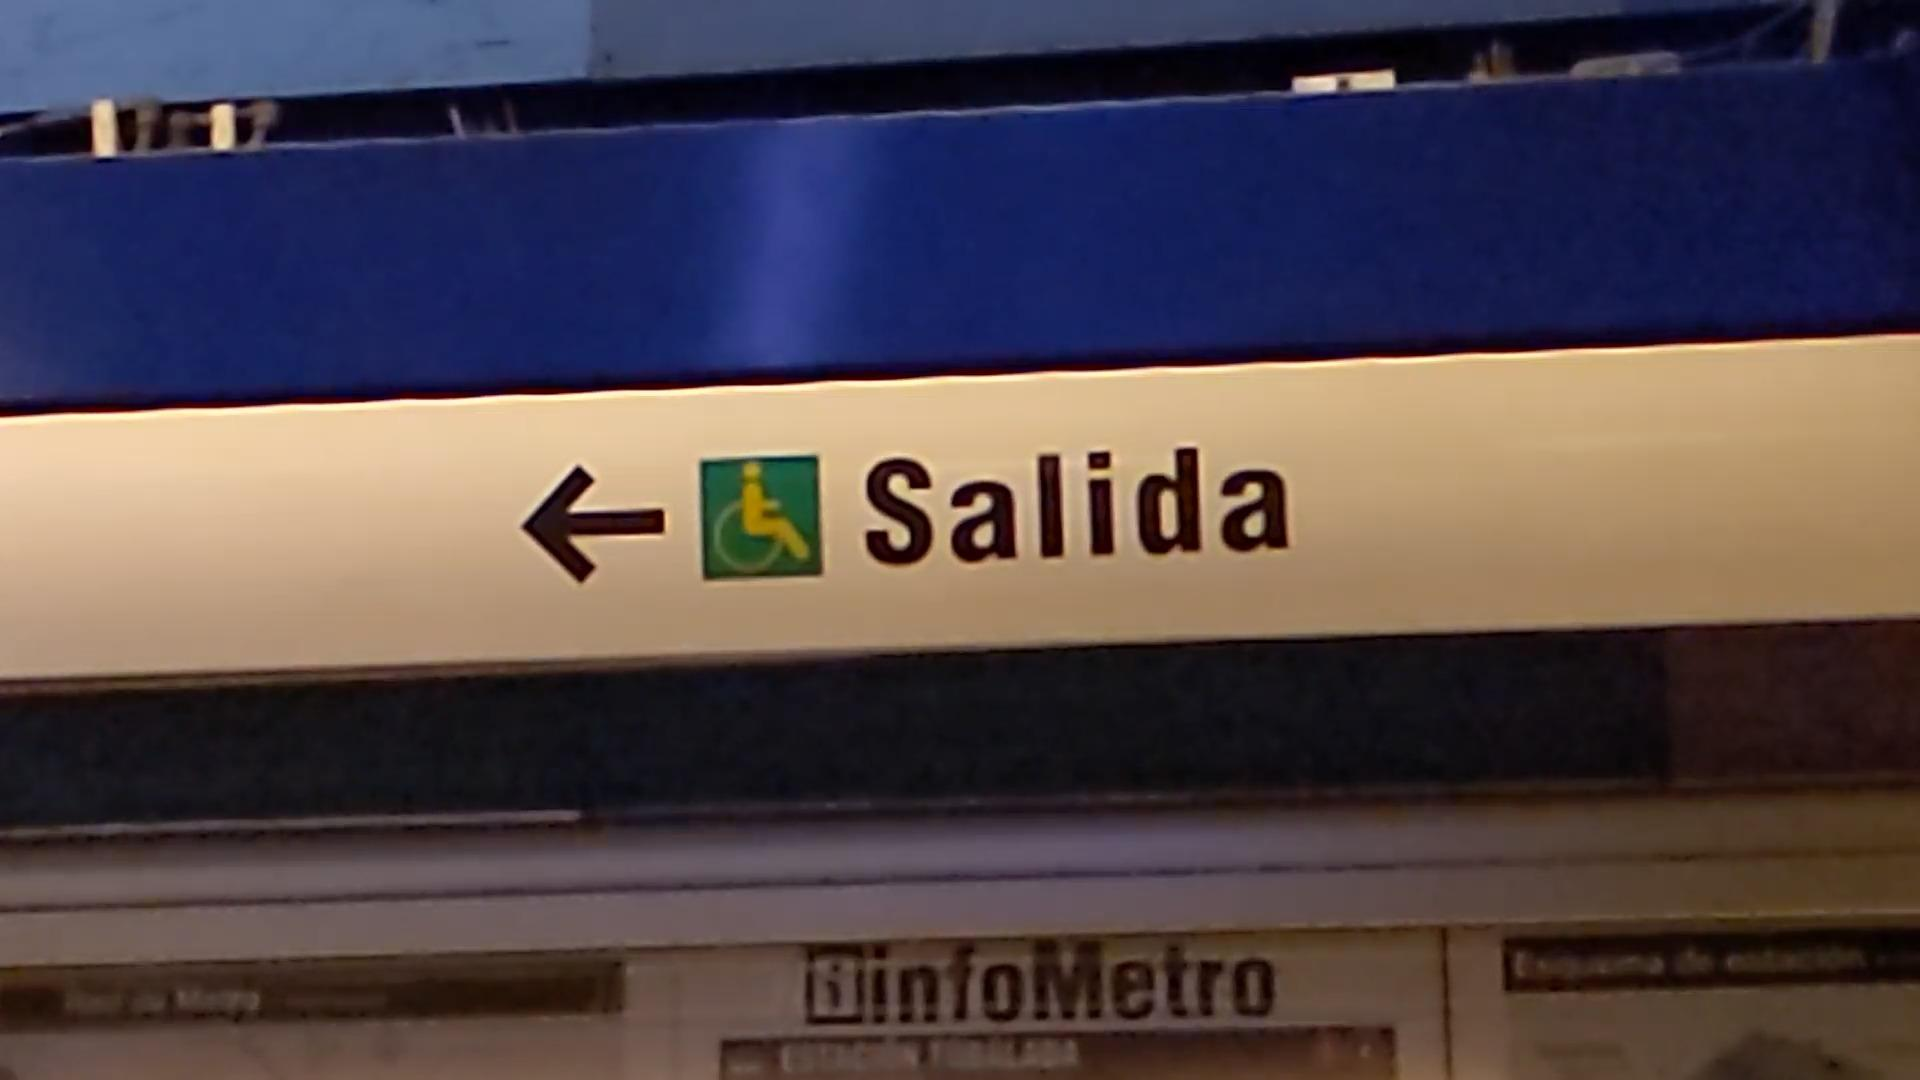handicapped symbol: (709, 463, 812, 580)
left arrow: (514, 459, 673, 587)
